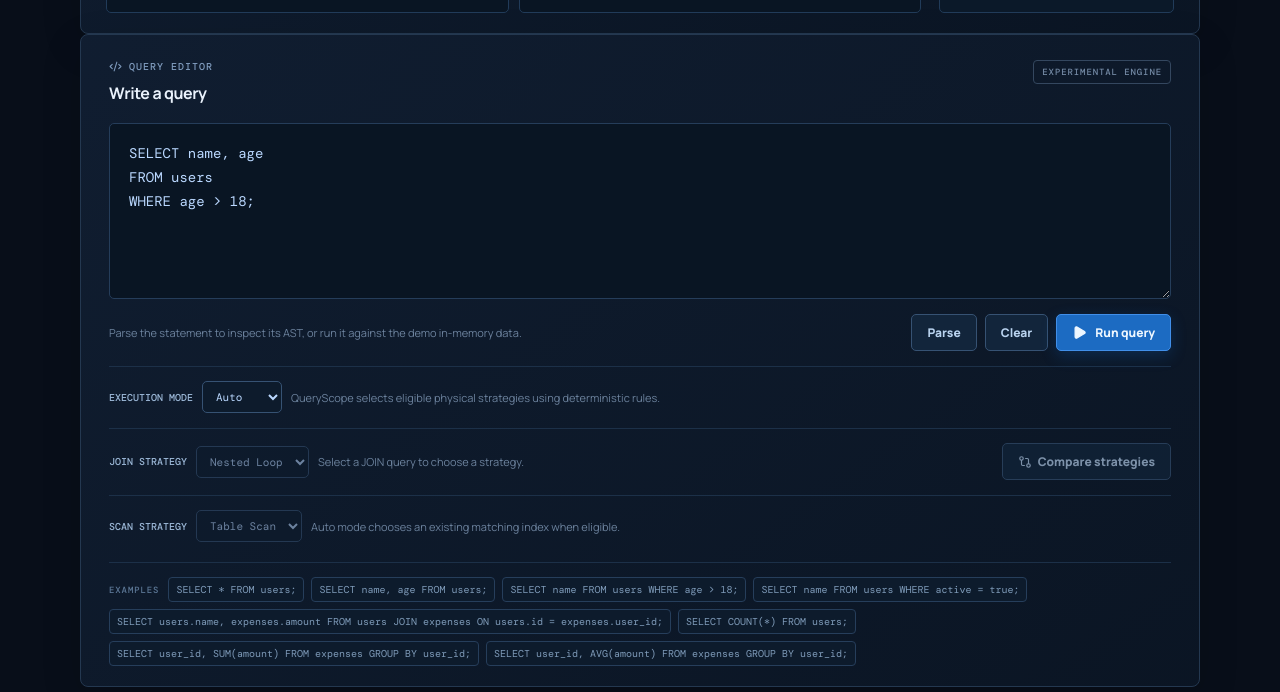
Test: App › shows a parser error returned by the API
(page scrolled)
Click the button "Parse" at {"x": 944, "y": 333}, box x1=911 y1=314 x2=977 y2=351
(page scrolled)
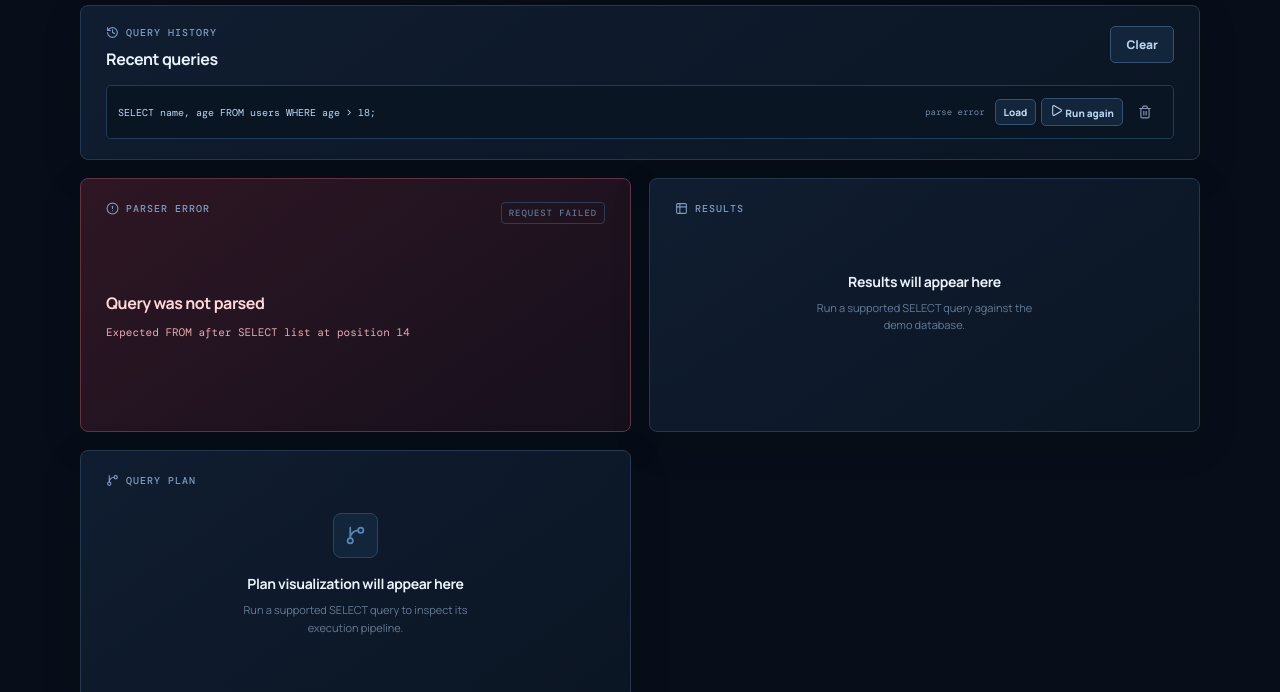
Now the message that starts with "PARSER ERROR" is shown, box x1=80 y1=178 x2=631 y2=432
Now the text "Expected FROM after SELECT list at position 14" is shown, box x1=106 y1=324 x2=410 y2=338
